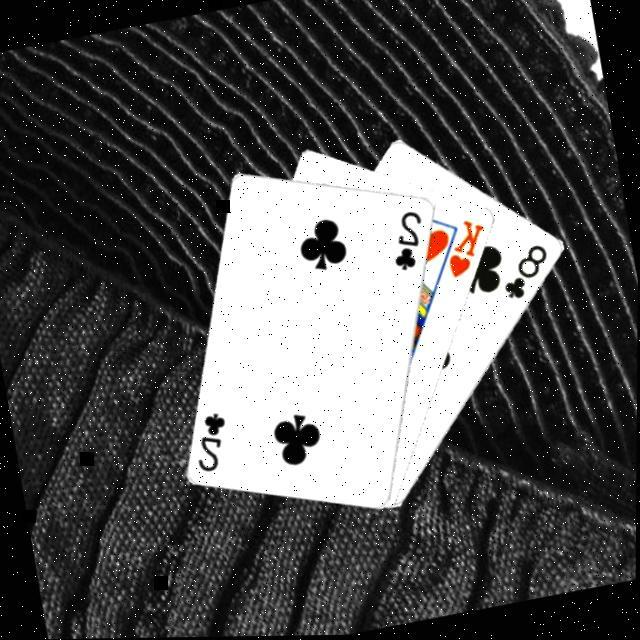2C: (381, 204, 431, 276), (186, 406, 236, 476)
8C: (493, 239, 556, 306)
KH: (437, 214, 493, 282)
